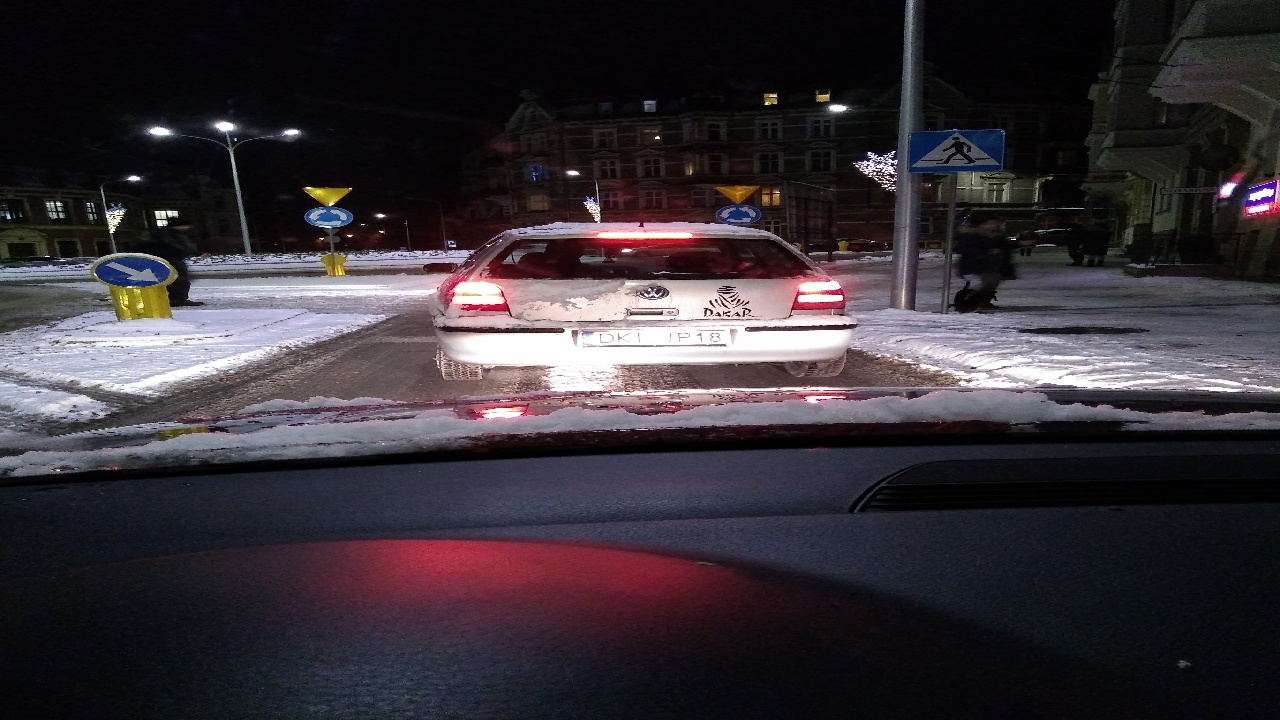A7: (301, 185, 352, 207), (714, 185, 760, 204)
C12: (304, 207, 353, 228), (716, 204, 761, 224)
C9: (95, 257, 172, 287)
D6: (909, 129, 1003, 171)
